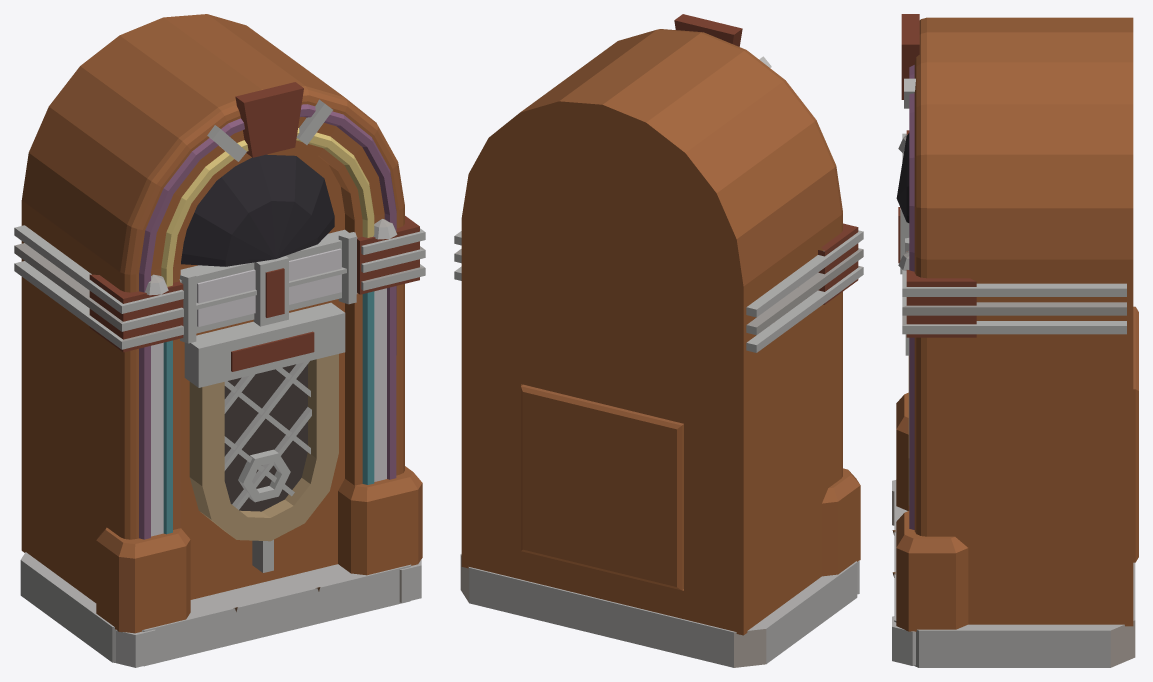
Rendered from jukebox.glb.
3 views of the same model, side by side, from view 1: azimuth 30°, elevation 25°; view 2: azimuth 150°, elevation 25°; view 3: azimuth 270°, elevation 25° (orthographic). The views are drawn at different scales.
Visible parts, largest first — view 1: jukebox; view 2: jukebox, door-back-mesh; view 3: jukebox, door-back-mesh.
Part boxes in pixels (x1,y1,x2,y2): jukebox: [14, 14, 425, 667]; jukebox: [454, 14, 863, 667]; door-back-mesh: [521, 384, 683, 590]; jukebox: [892, 14, 1135, 667]; door-back-mesh: [1133, 306, 1138, 562].
Bounding box in the file's own units: 0.9001 × 1.5 × 0.5992.
